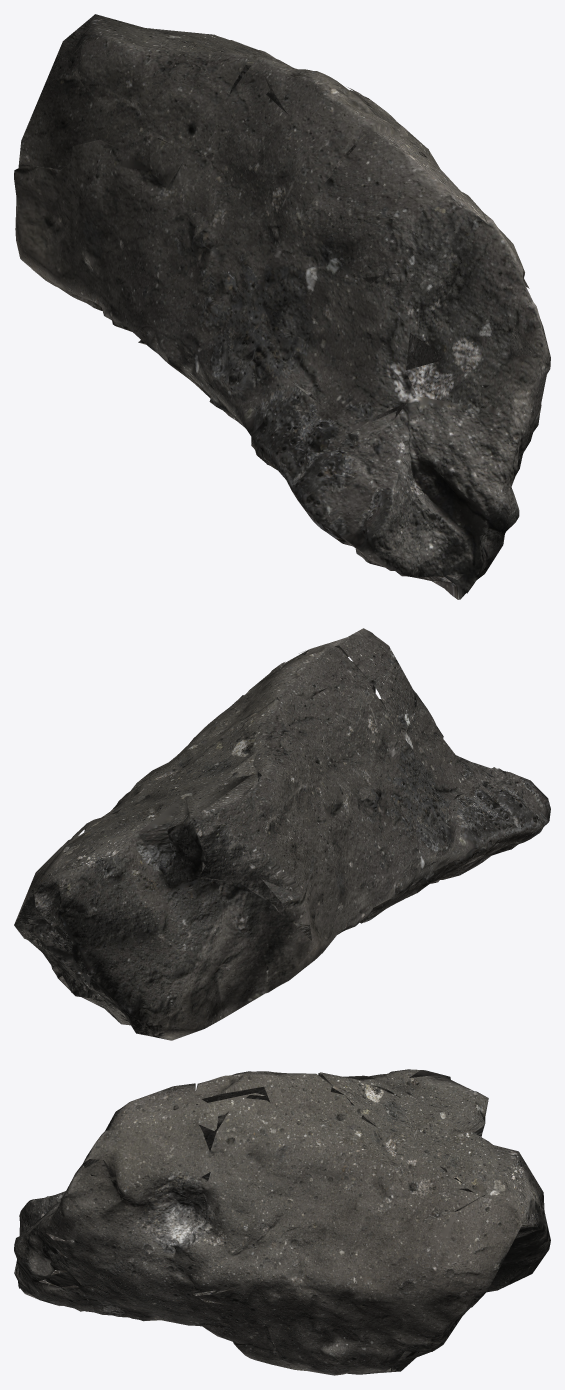
The model's file is apollo_lunar_sample_702950.glb.
3 views of the same model, one above another, from view 1: azimuth 30°, elevation 25°; view 2: azimuth 150°, elevation 25°; view 3: azimuth 270°, elevation 25° (orthographic). The views are drawn at different scales.
Visible parts, largest first — view 1: Object_2, Object_3; view 2: Object_3, Object_2; view 3: Object_2, Object_3.
Part boxes in pixels (x1,y1,x2,y2): Object_2: (14,33,550,599); Object_3: (15,14,547,593); Object_3: (14,628,481,1040); Object_2: (51,643,550,993); Object_2: (14,1069,485,1375); Object_3: (18,1072,550,1374).
Bounding box in the file's own units: 0.0531 × 0.0608 × 0.1107.
1 material, 1 textured.
